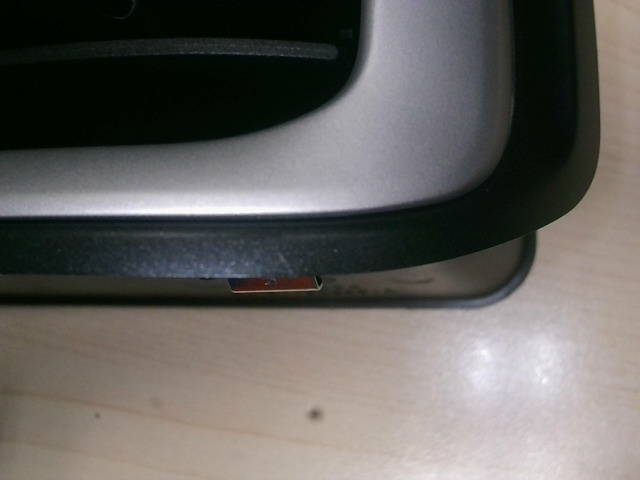NG: (219, 243, 314, 286)
